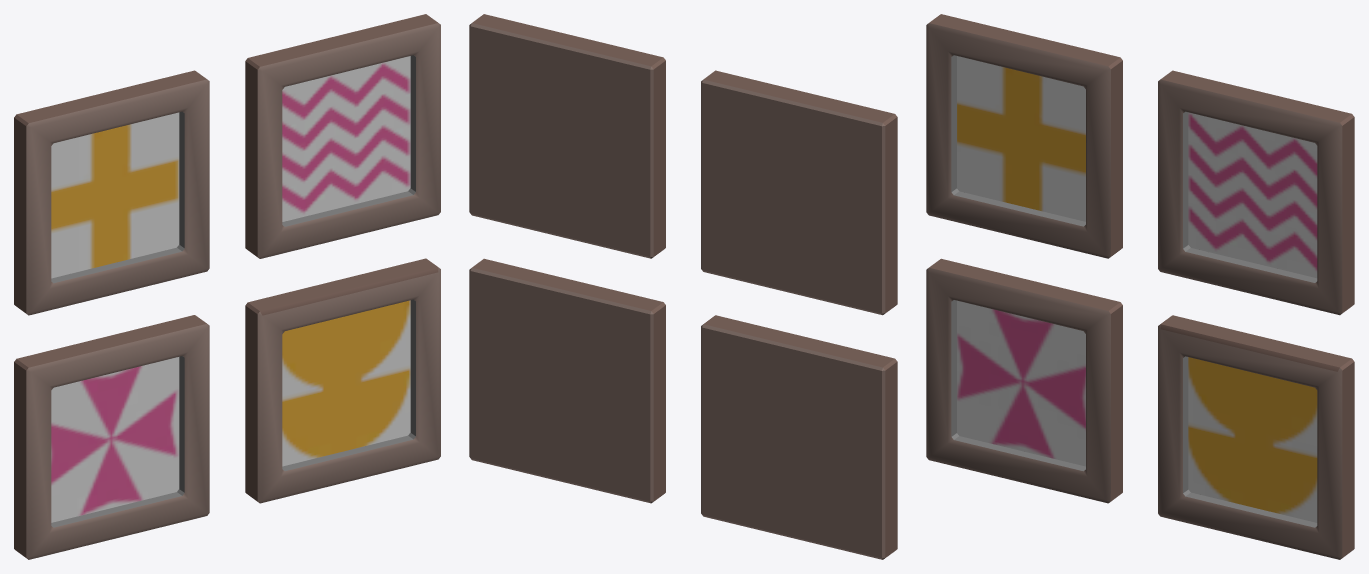
File: frames.fbx
The picture shows the model from 3 angles, left to right: view 1: azimuth 30°, elevation 25°; view 2: azimuth 150°, elevation 25°; view 3: azimuth 330°, elevation 25°; orthographic projection.
Visible parts, largest first — view 1: frames; view 2: frames; view 3: frames.
Part boxes in pixels (box(x1,y1,x2,y2)): frames: box(14, 14, 440, 559); frames: box(469, 14, 897, 559); frames: box(926, 14, 1354, 559).
Bounding box in the file's own units: 97.69 × 98.2 × 6.07.
